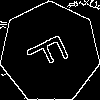F: (25, 28, 78, 75)
